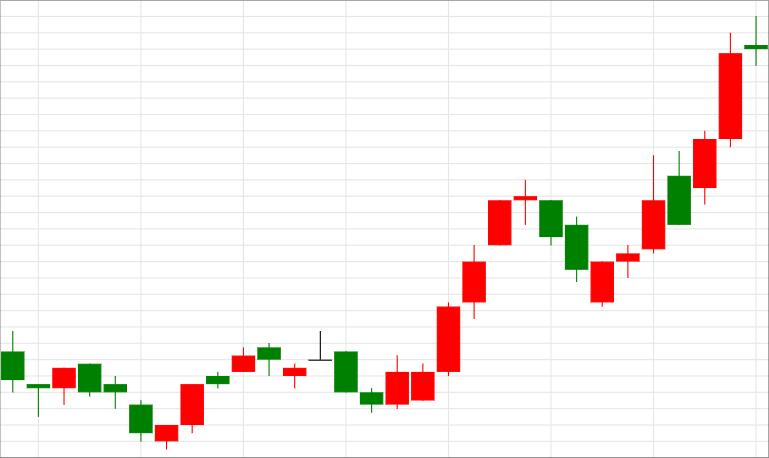evening_star_fall: (386, 179, 562, 409)
